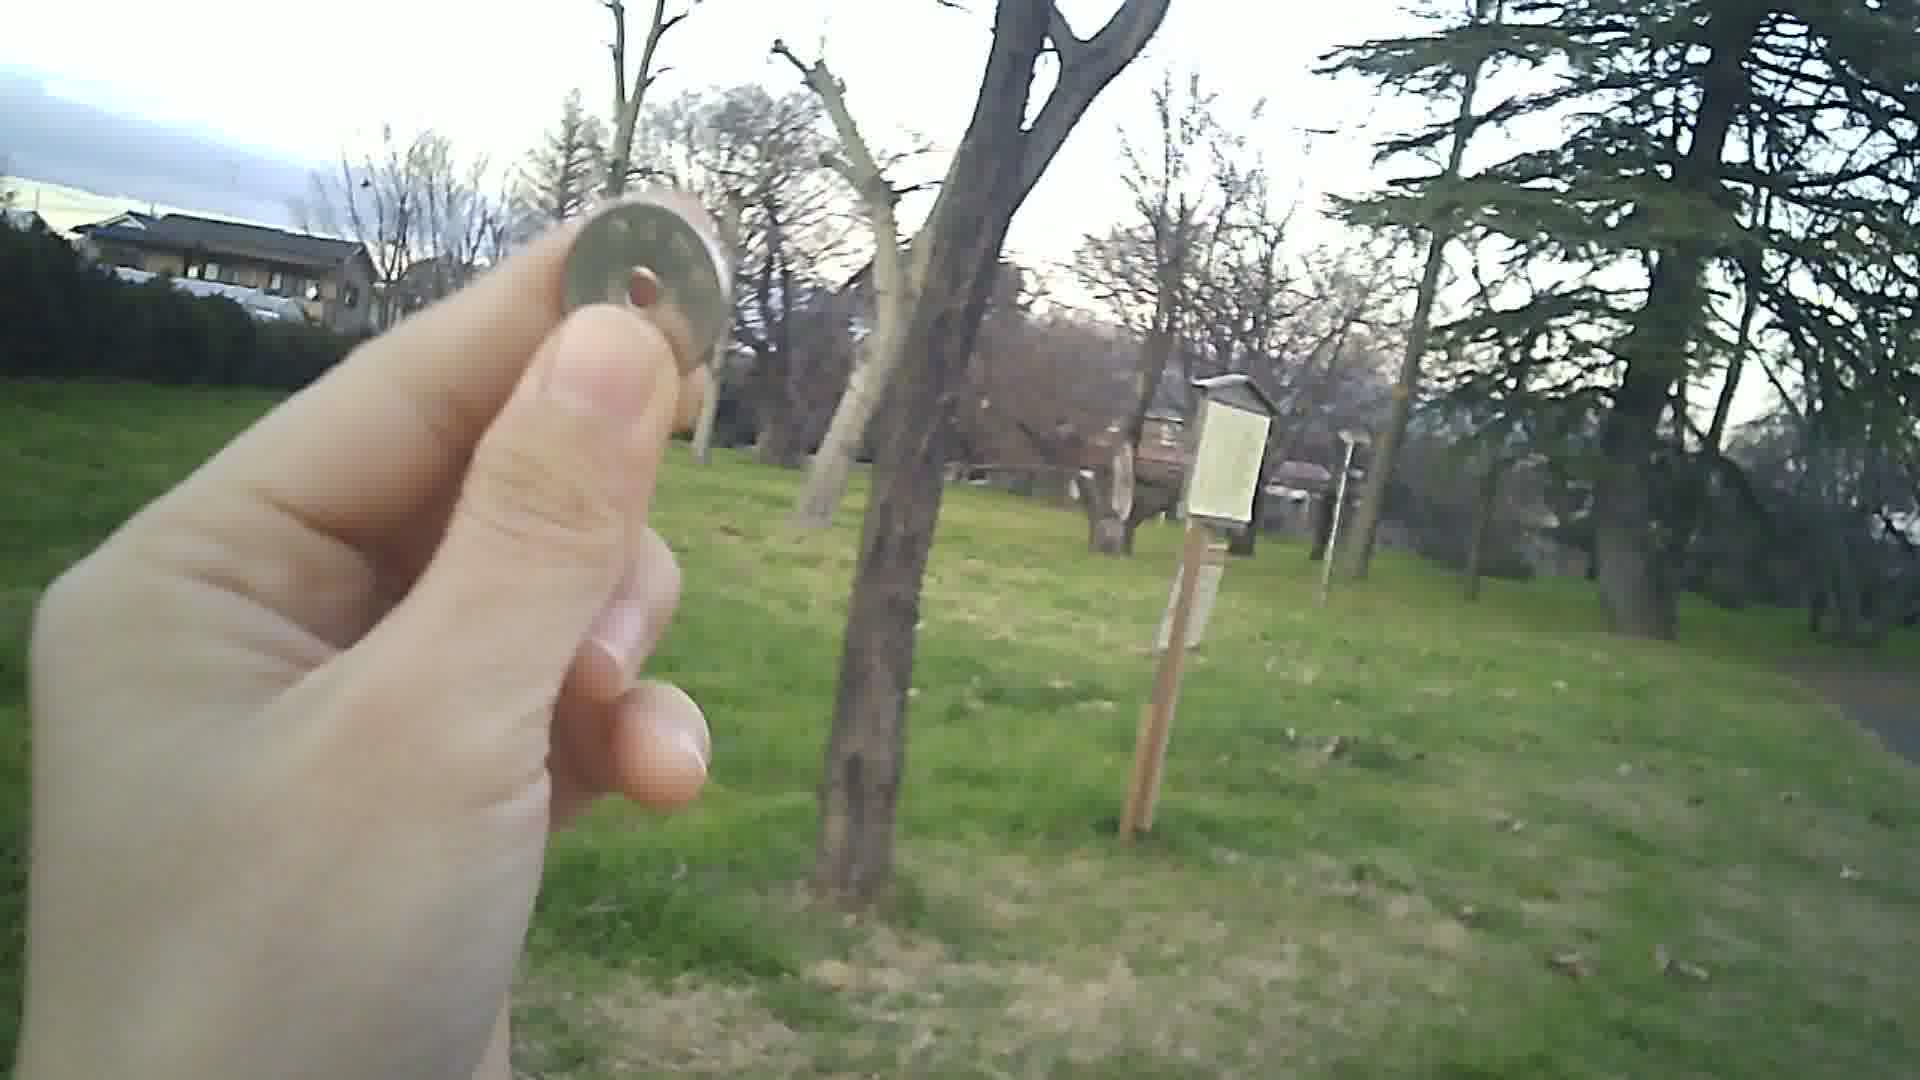50 Yen: (545, 198, 736, 396)
